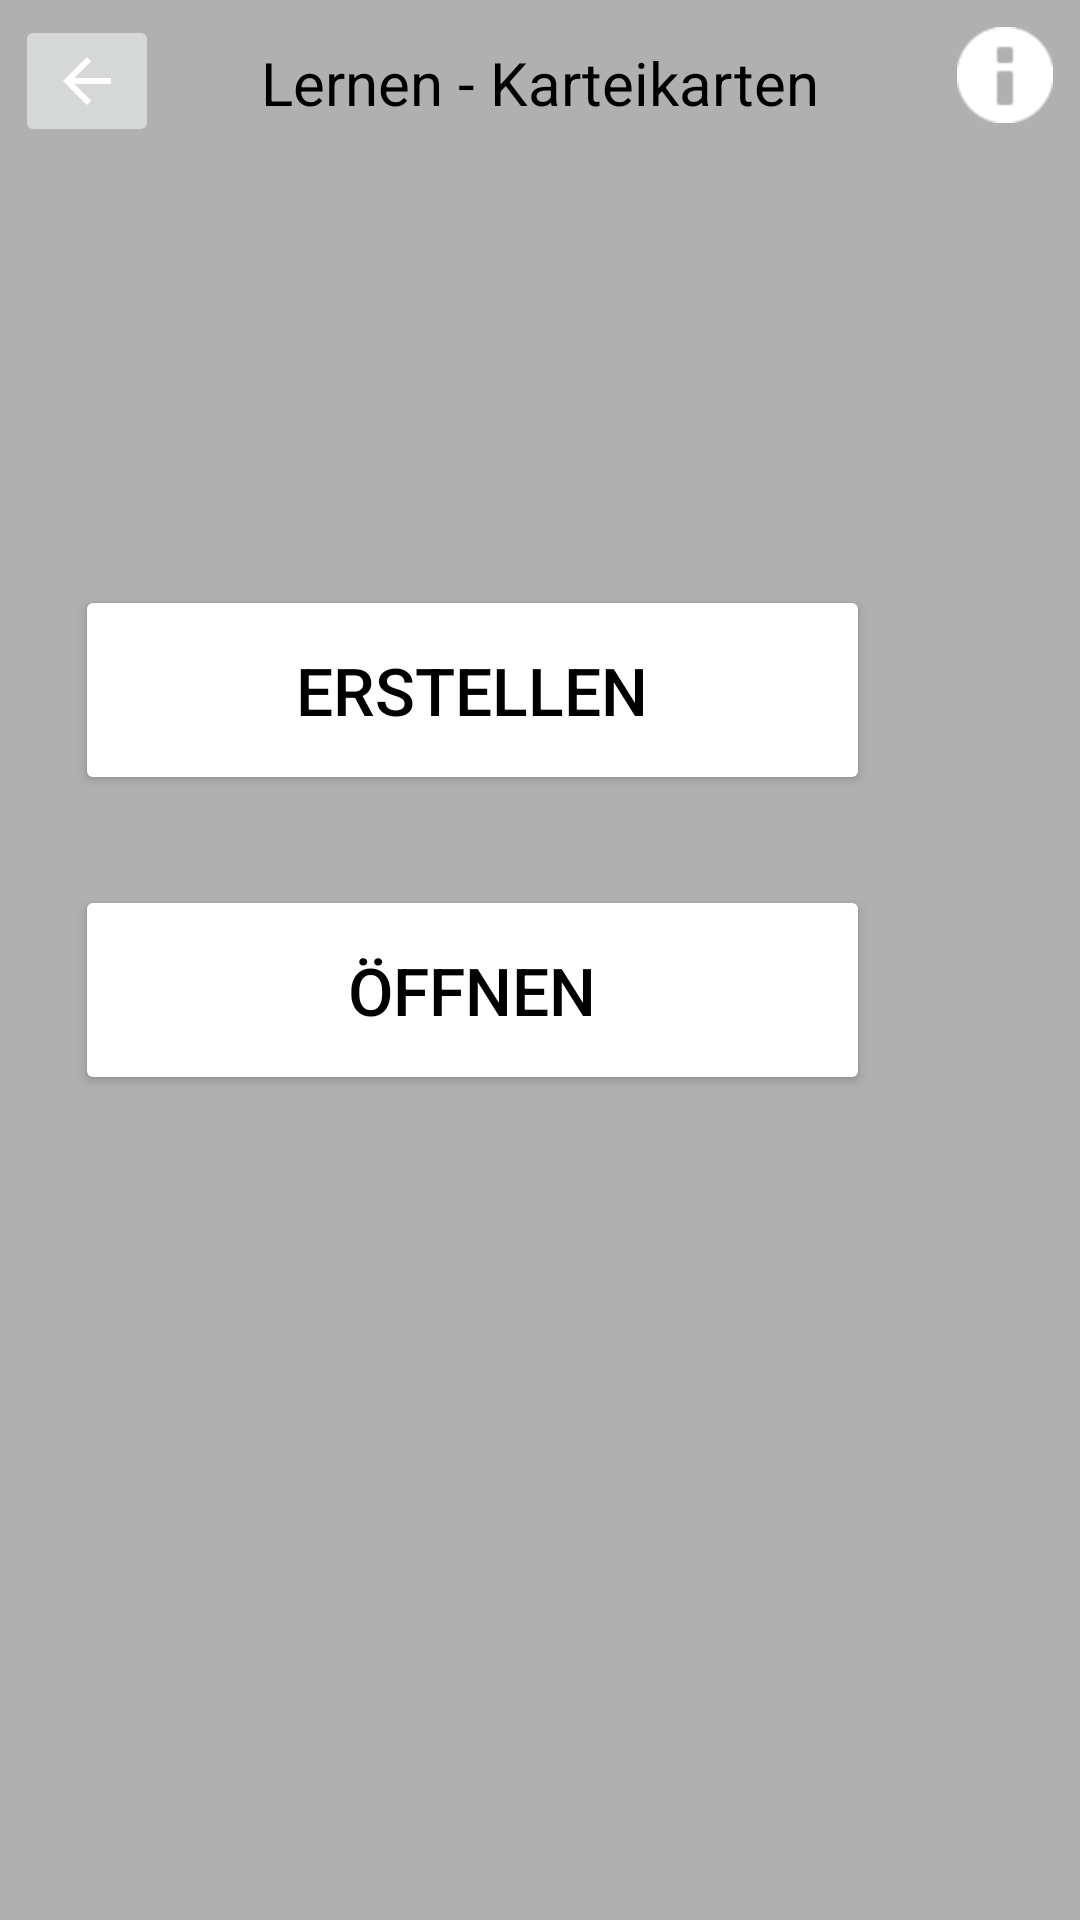

Point at icon controls on the screen. Image size 1080x1920, points as [x,y].
info: [1005,75]
